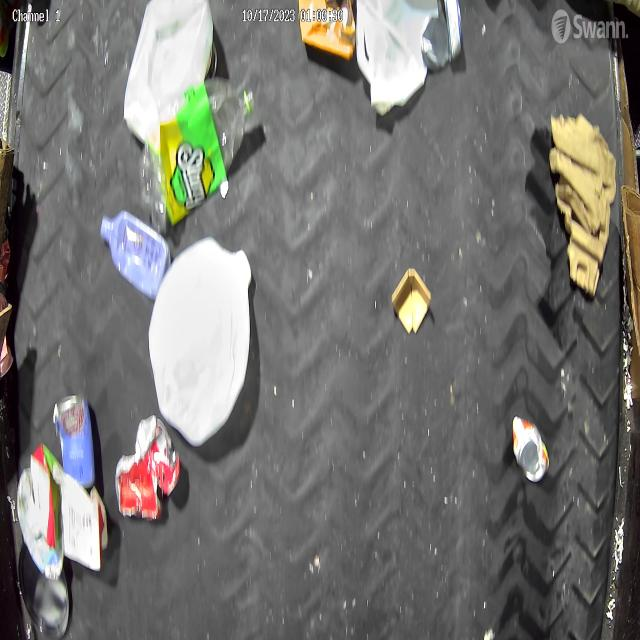can: (54, 390, 99, 490), (140, 414, 182, 498), (116, 452, 161, 522), (512, 416, 551, 487)
milk_jug: (147, 234, 252, 446), (123, 2, 214, 143), (356, 0, 438, 115)
plastic_bottle: (140, 76, 254, 232)
